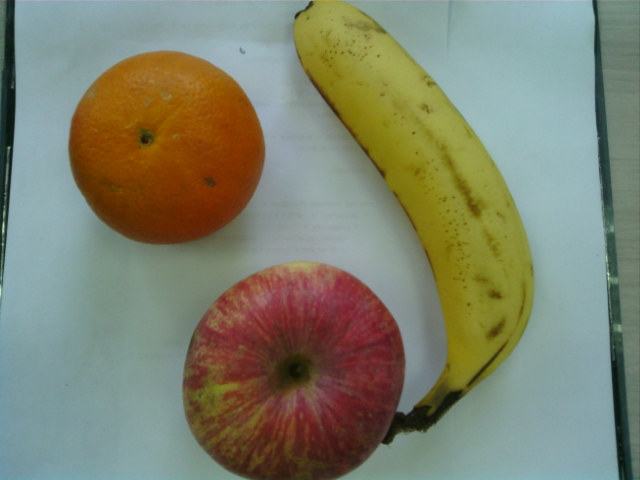normal_apple: (181, 260, 406, 479)
normal_banana: (289, 1, 540, 396)
normal_orange: (61, 48, 269, 247)
